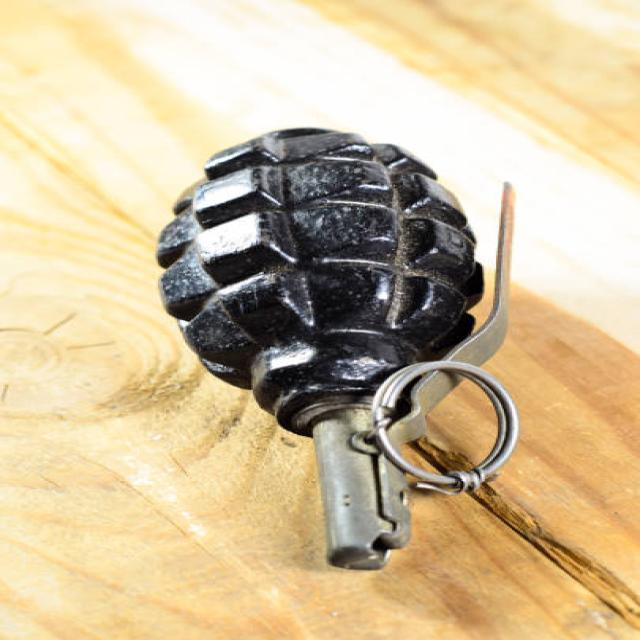grenade: (145, 121, 543, 578)
